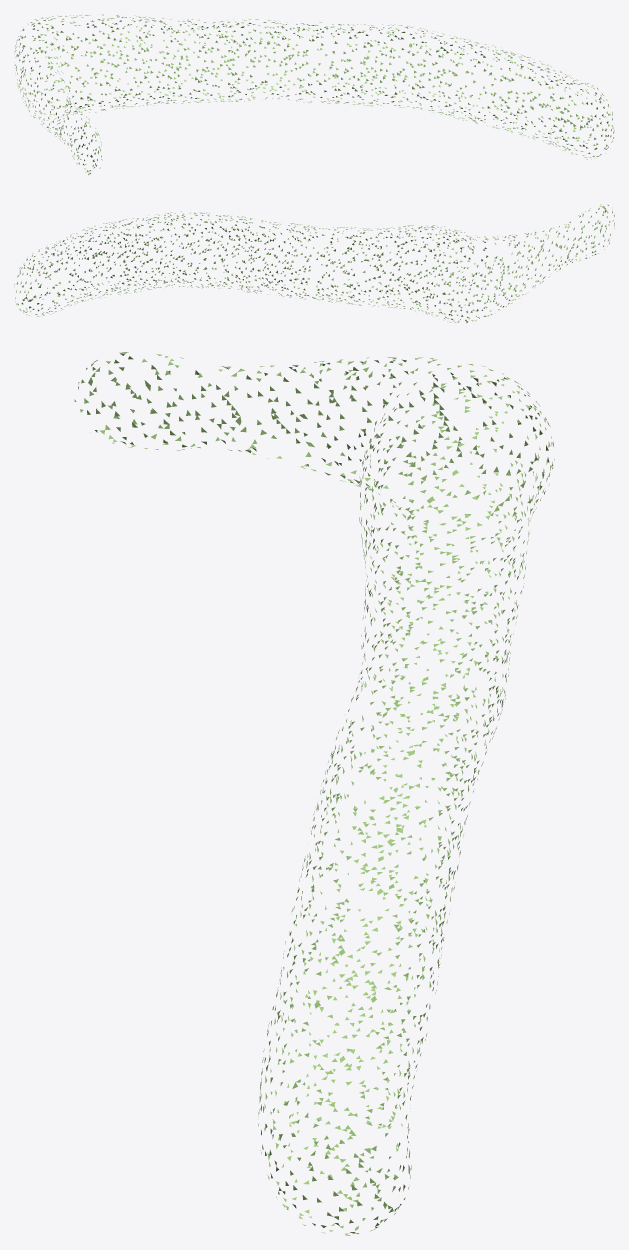
File: morph_013.glb
The picture shows the model from 3 angles, top to bottom: view 1: azimuth 30°, elevation 25°; view 2: azimuth 150°, elevation 25°; view 3: azimuth 270°, elevation 25°; orthographic projection. The views are drawn at different scales.
Bounding box in the file's own units: 146 × 55.06 × 57.29.
